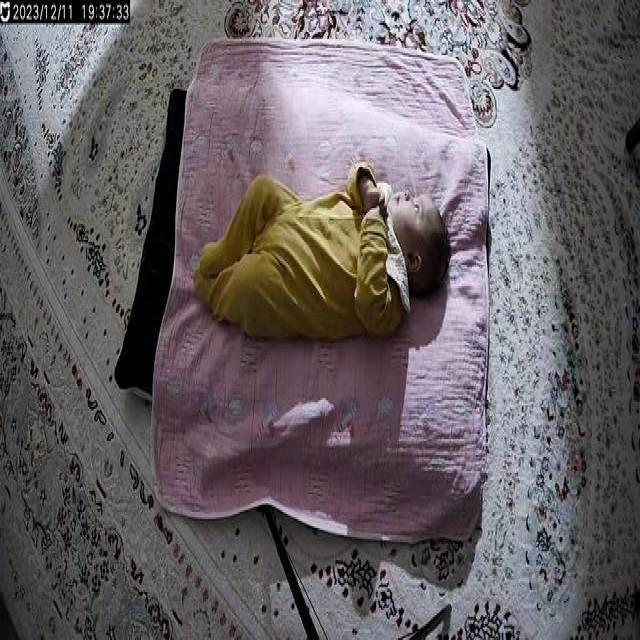baby: (191, 158, 453, 350)
